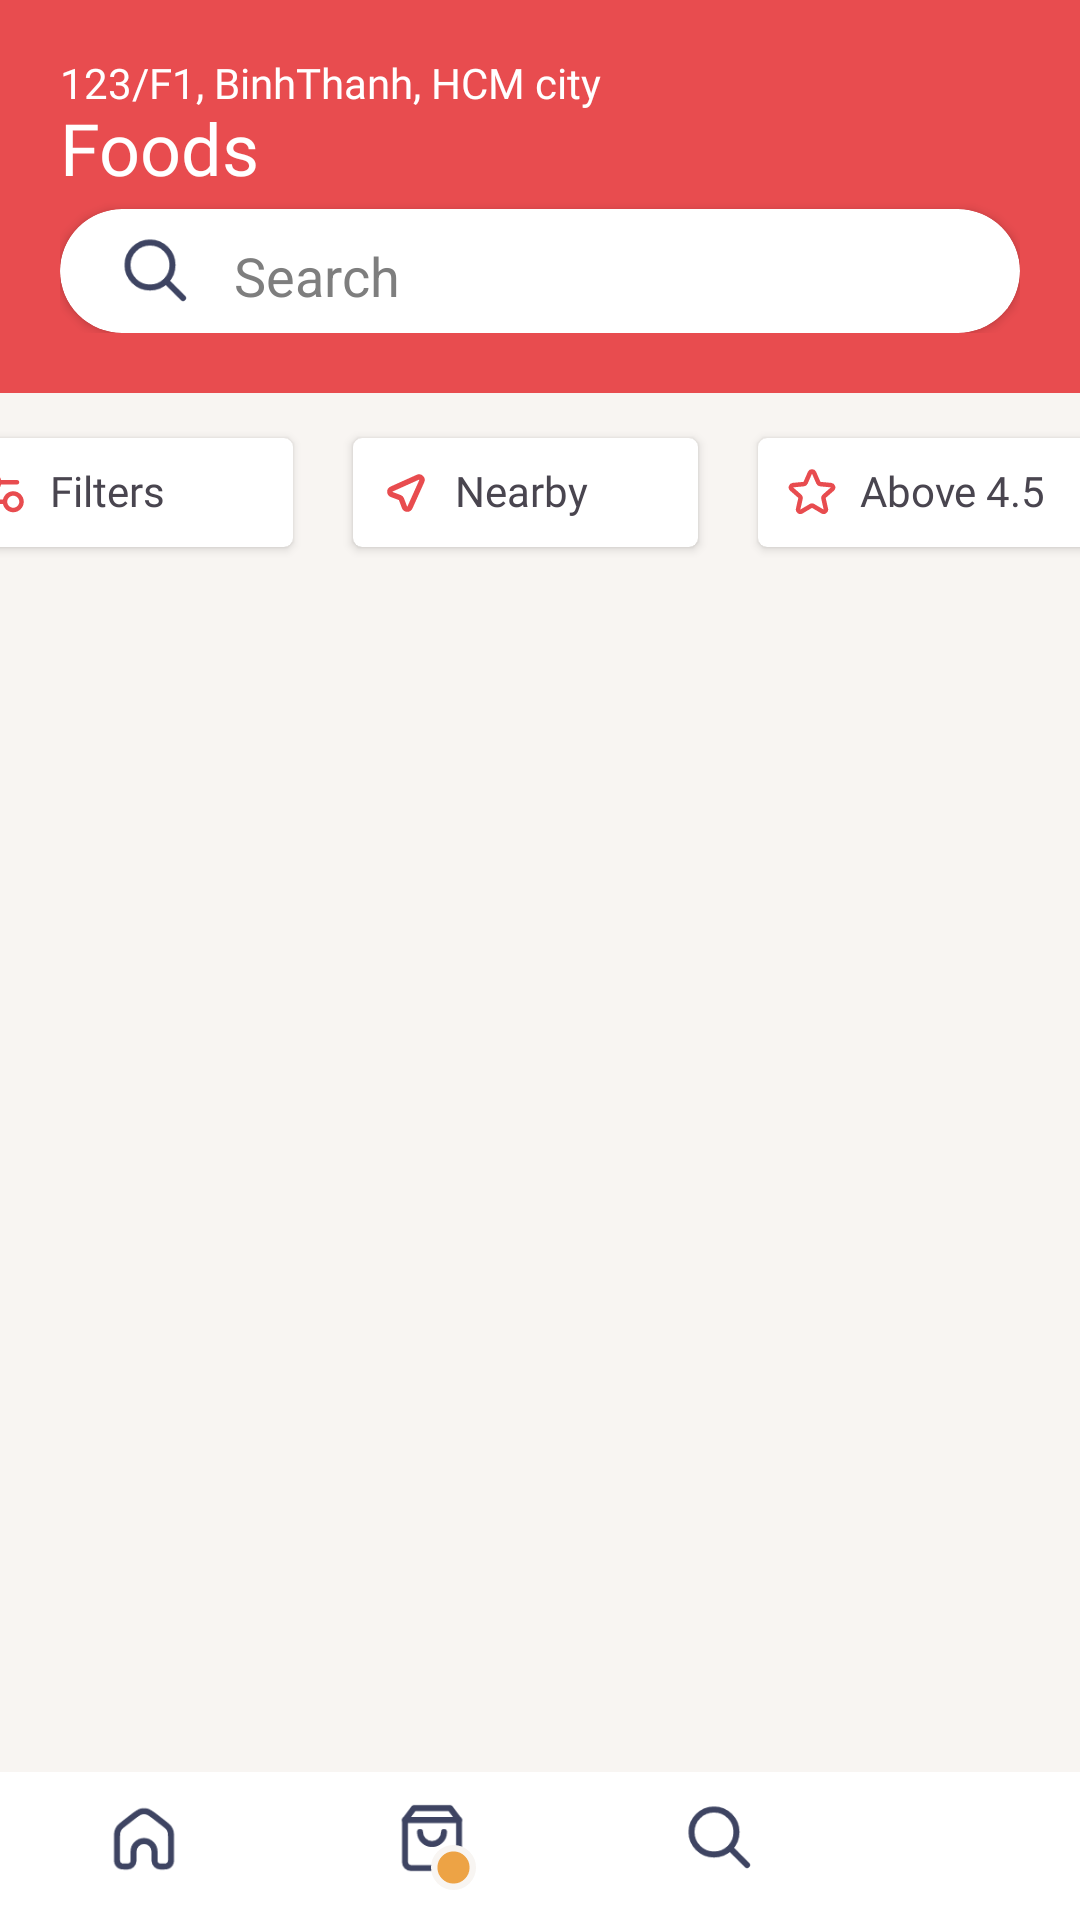

Icons on this 1080×1920 Android screen, each with the point to tap as [x,y]:
home: [144,1839]
search: [719,1837]
shopping bag: [432,1838]
